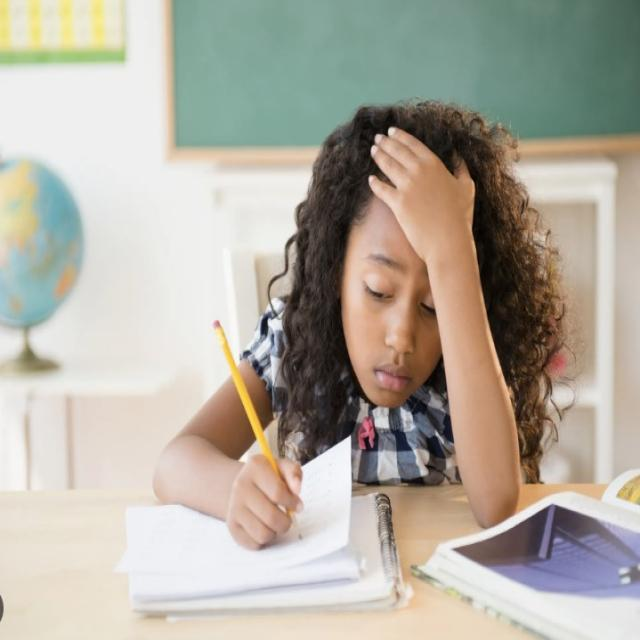studying-person: (90, 75, 603, 621)
